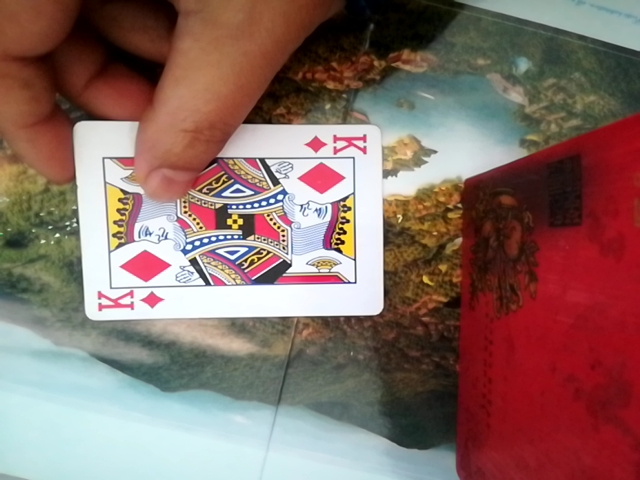fk k: (63, 114, 393, 318)
